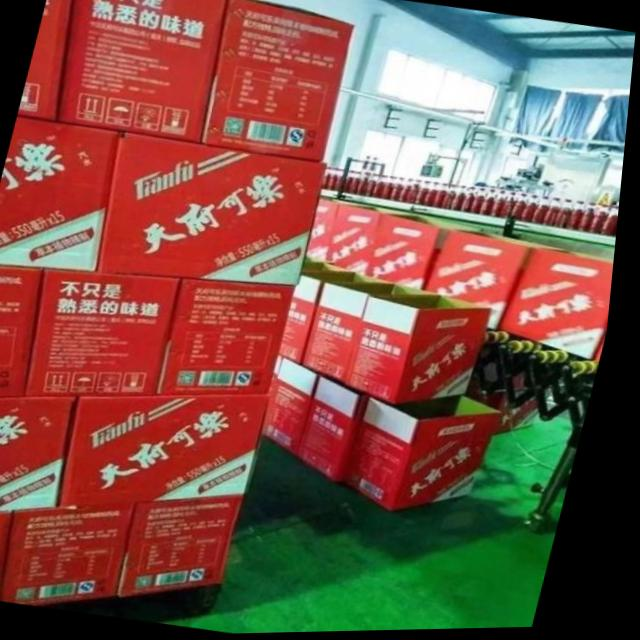box: (103, 132, 331, 287), (205, 0, 354, 164), (60, 0, 227, 145), (69, 396, 279, 509), (31, 269, 187, 397), (0, 116, 126, 274), (354, 397, 510, 513), (164, 279, 302, 397), (353, 297, 496, 405), (431, 232, 576, 332), (10, 503, 146, 606), (309, 284, 446, 385), (506, 251, 619, 363), (130, 497, 254, 599), (286, 274, 401, 365), (0, 397, 85, 513), (372, 216, 487, 292), (307, 377, 378, 483), (332, 206, 428, 276), (20, 0, 72, 122), (0, 266, 47, 398), (271, 359, 327, 459), (312, 200, 380, 263), (0, 512, 23, 600)
